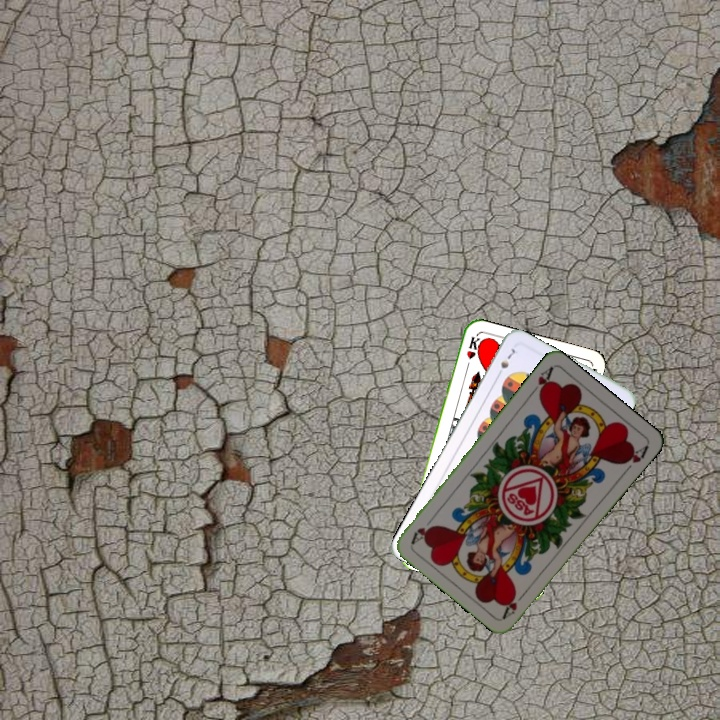HA: (499, 586, 530, 621), (526, 363, 556, 398)
HK: (462, 333, 483, 373)
S7: (493, 344, 518, 380)
